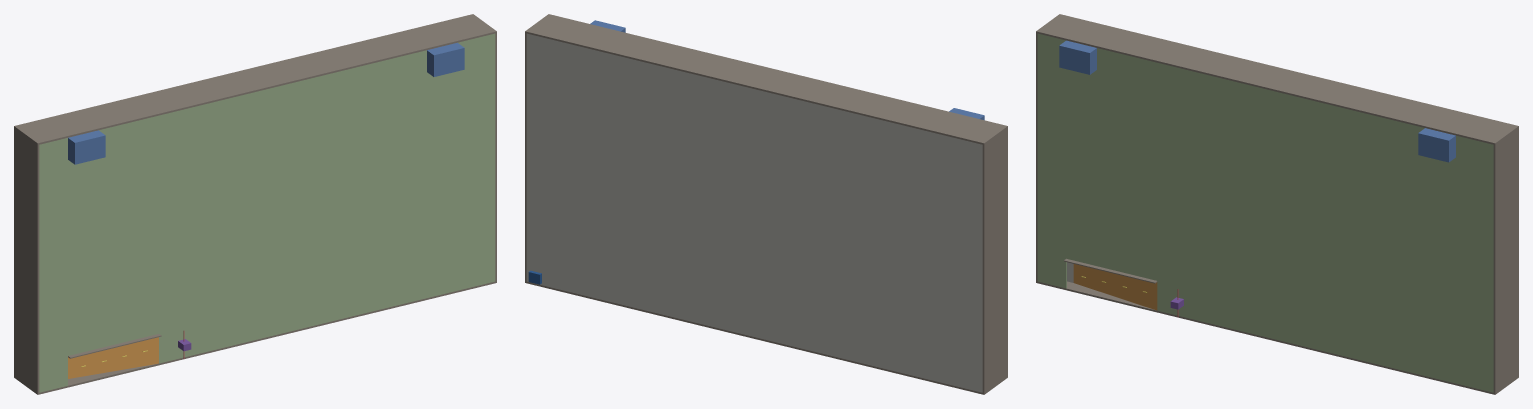
File: garage.obj
The picture shows the model from 3 angles, left to right: view 1: azimuth 30°, elevation 25°; view 2: azimuth 150°, elevation 25°; view 3: azimuth 330°, elevation 25°; orthographic projection.
Parts seen in each view (by area): view 1: roof, wall, ramp, core; view 2: slab, wall; view 3: roof, wall, core, ramp.
Part boxes in pixels (x1,y1,x2,y2): roof: [39, 33, 495, 392]; wall: [14, 14, 496, 394]; ramp: [68, 337, 158, 378]; core: [68, 42, 464, 164]; slab: [526, 33, 982, 392]; wall: [525, 14, 1007, 394]; roof: [1037, 33, 1493, 392]; wall: [1036, 14, 1518, 394]; core: [1059, 40, 1455, 162]; ramp: [1073, 264, 1157, 310].
Size of the model in its own units: 121 by 63.3 by 14.9.
